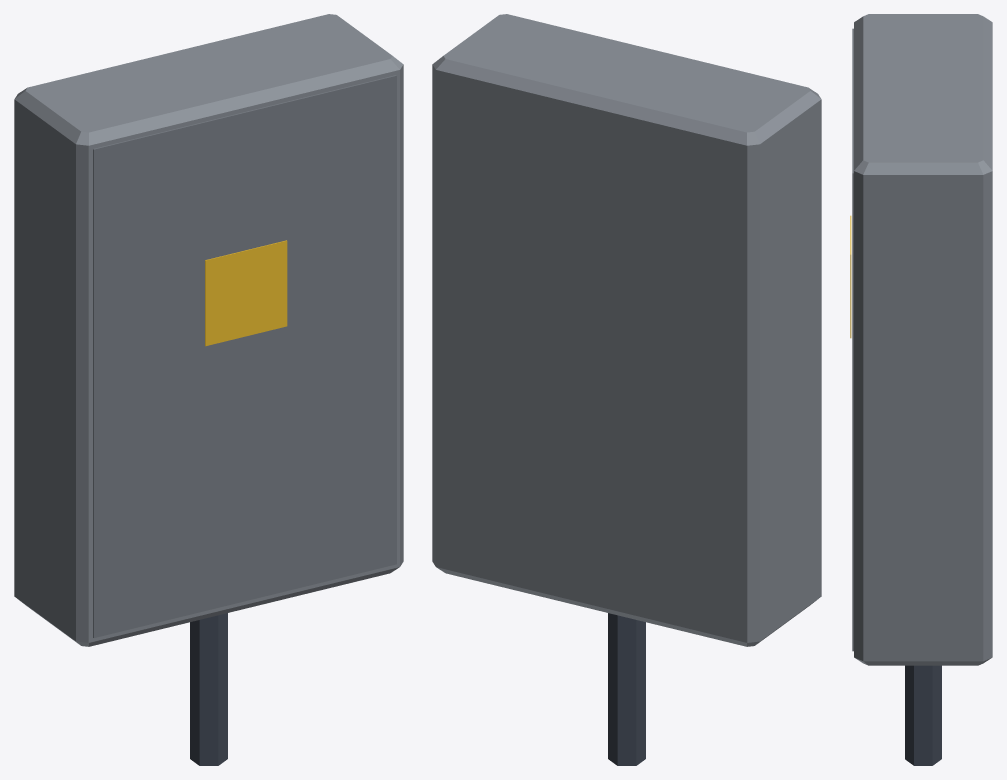
The model's file is electrical_box.glb.
3 renders of one model, left to right at view 1: azimuth 30°, elevation 25°; view 2: azimuth 150°, elevation 25°; view 3: azimuth 270°, elevation 25°, orthographic. The views are drawn at different scales.
Parts seen in each view (by area): view 1: electrical_box; view 2: electrical_box; view 3: electrical_box.
Part boxes in pixels (box(x1,y1,x2,y2)): electrical_box: box(14, 14, 403, 765); electrical_box: box(432, 14, 821, 765); electrical_box: box(850, 14, 992, 765).
Bounding box in the file's own units: 0.8 × 1.6 × 0.308.
